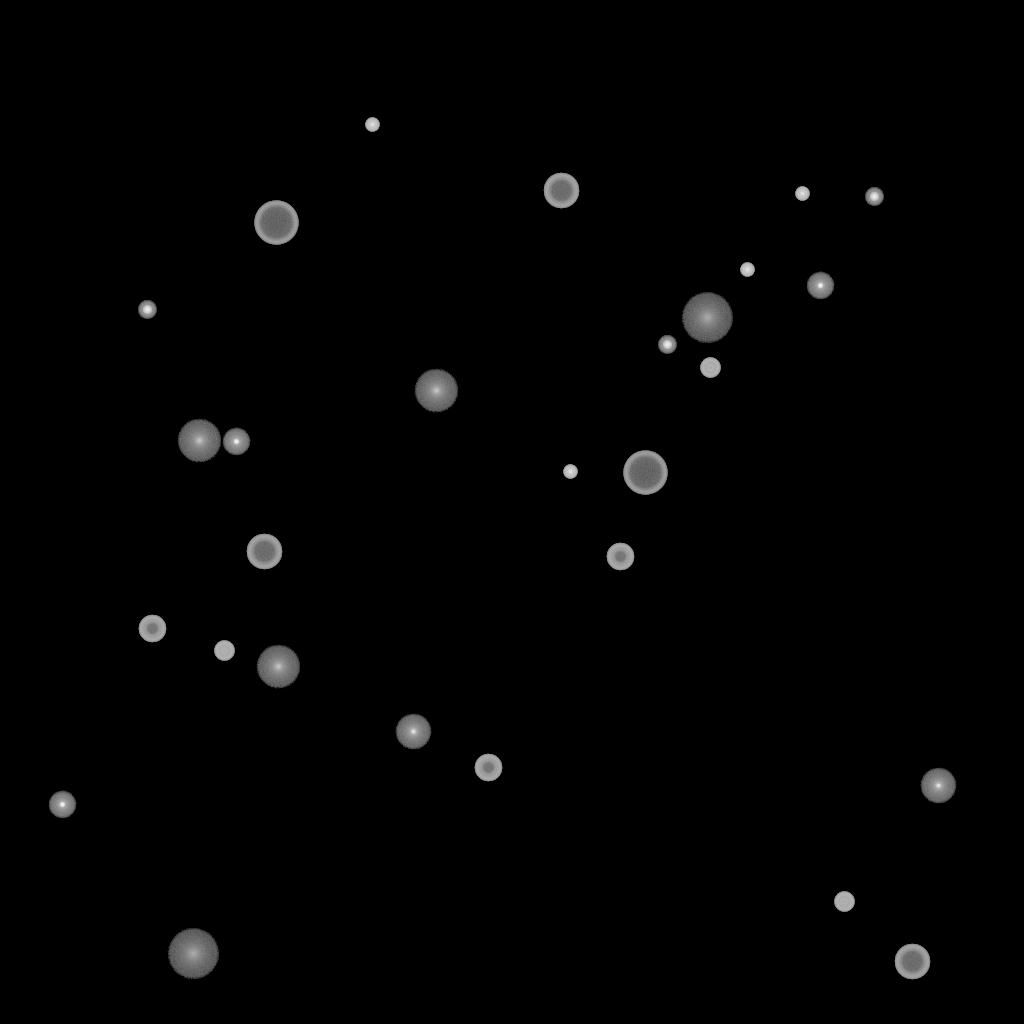depth:-10: (806, 272, 834, 300), (222, 428, 250, 456), (48, 791, 76, 819)
depth:-20: (865, 188, 883, 206), (138, 301, 156, 319), (658, 336, 676, 354)
depth:-30: (563, 465, 577, 479), (795, 187, 809, 201), (365, 118, 379, 132), (740, 263, 754, 277)
depth:-40: (834, 892, 854, 912), (700, 358, 720, 378), (214, 641, 234, 661)
depth:-50: (138, 615, 166, 643), (474, 754, 502, 782), (606, 543, 634, 571)
depth:-60: (894, 944, 930, 980), (246, 534, 282, 570), (543, 173, 579, 209)
depth:-70: (254, 201, 298, 245), (623, 451, 667, 495)
depth:0: (395, 714, 431, 750), (920, 768, 956, 804)
depth:10: (177, 419, 221, 463), (256, 645, 300, 689), (414, 369, 458, 413)
depth:20: (167, 929, 219, 979), (681, 293, 733, 343)
